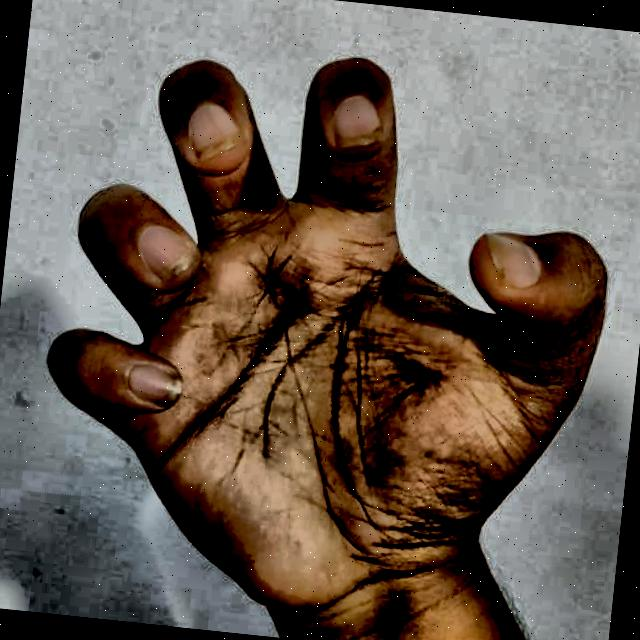Ja: (13, 12, 640, 640)
